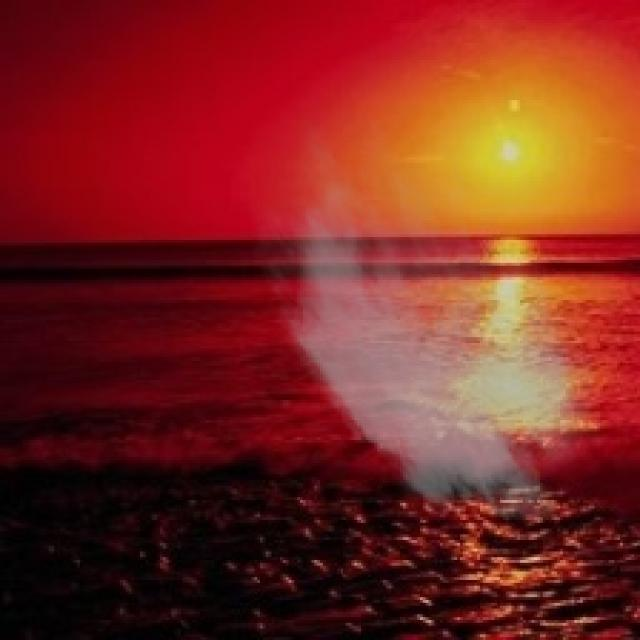smoke: (246, 120, 614, 537)
